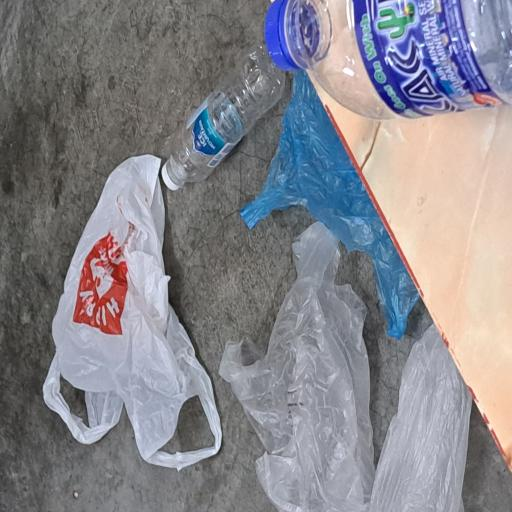plastic bag: (31, 54, 269, 298), (0, 289, 220, 500), (130, 319, 333, 512)
plastic bottle: (247, 226, 352, 381), (297, 381, 384, 512)
plastic bottle cap: (330, 352, 384, 405), (241, 214, 263, 241)
